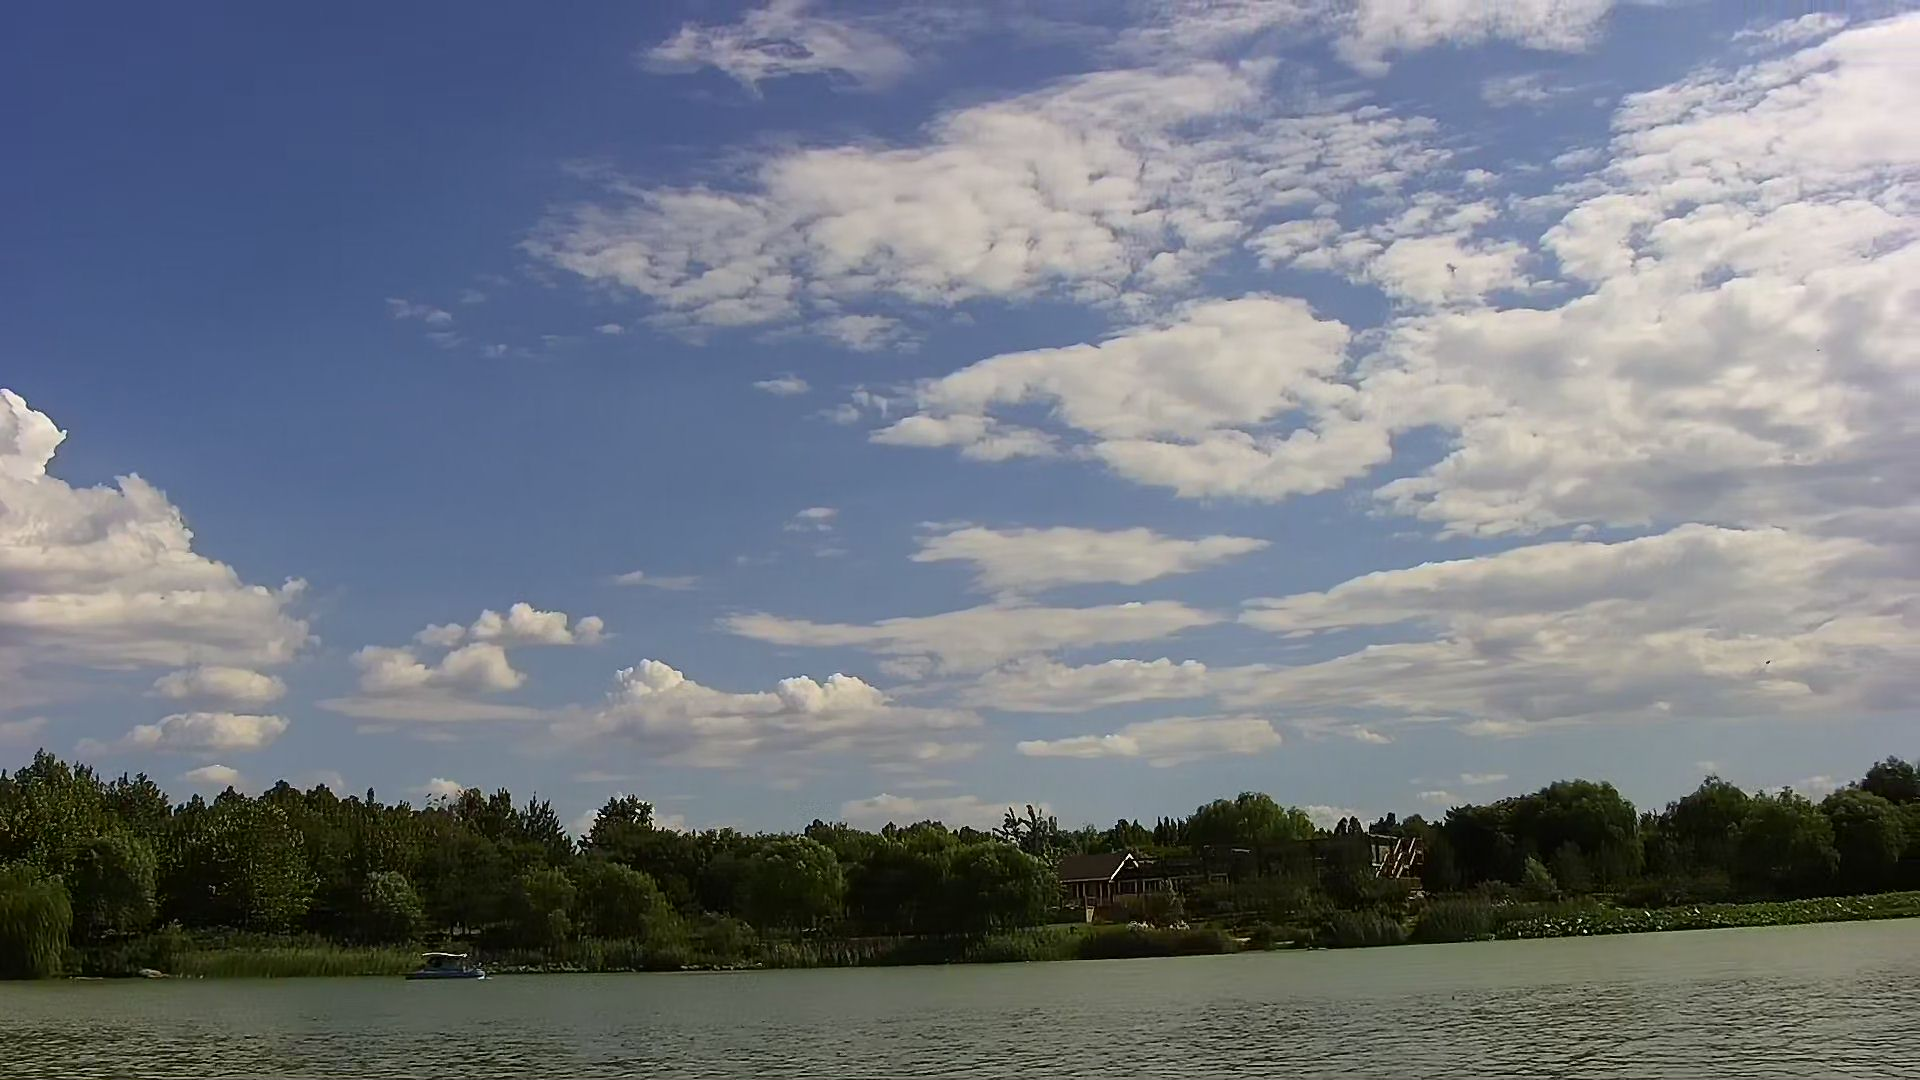boat: (406, 945, 491, 986)
